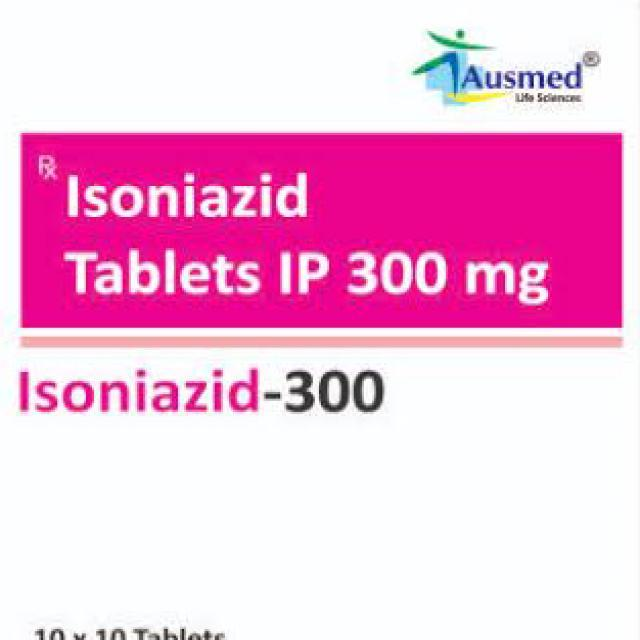drug-name: (61, 164, 318, 228)
